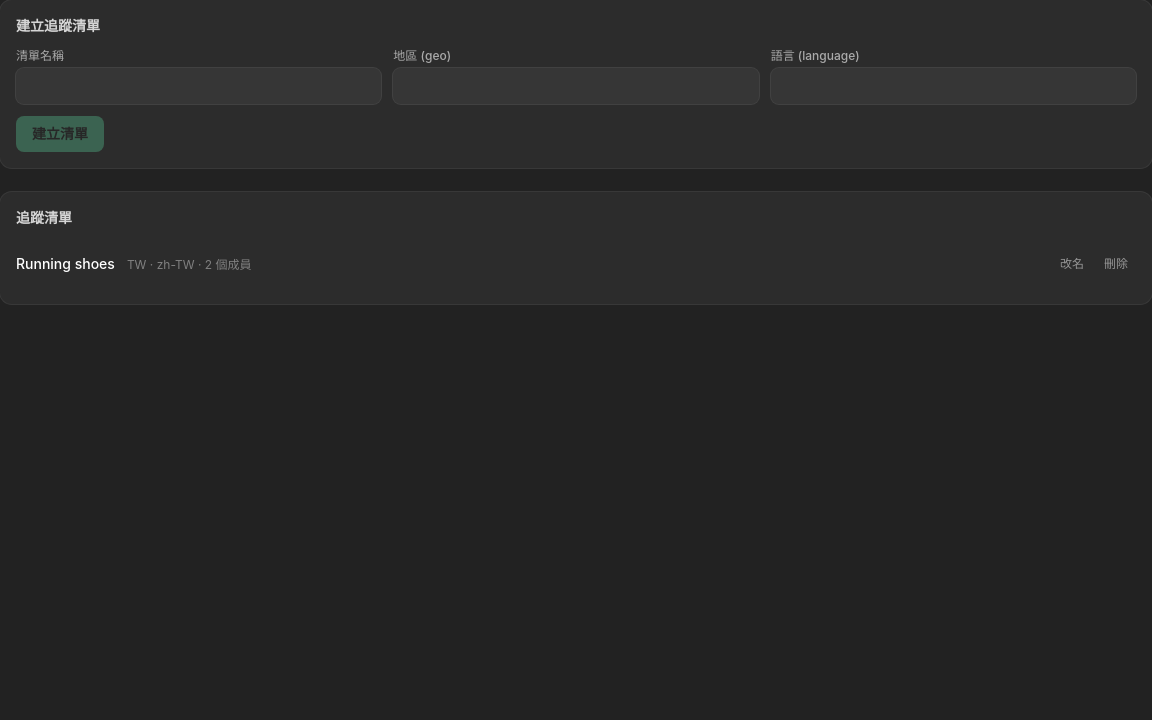
Test: TC-40 · TrackingListsView › deletes a list behind a confirm dialog, then removes the row
The image size is (1152, 720).
Click the button with aria-label "刪除 Running shoes".
click(1116, 264)  # box [1096,252,1136,276]
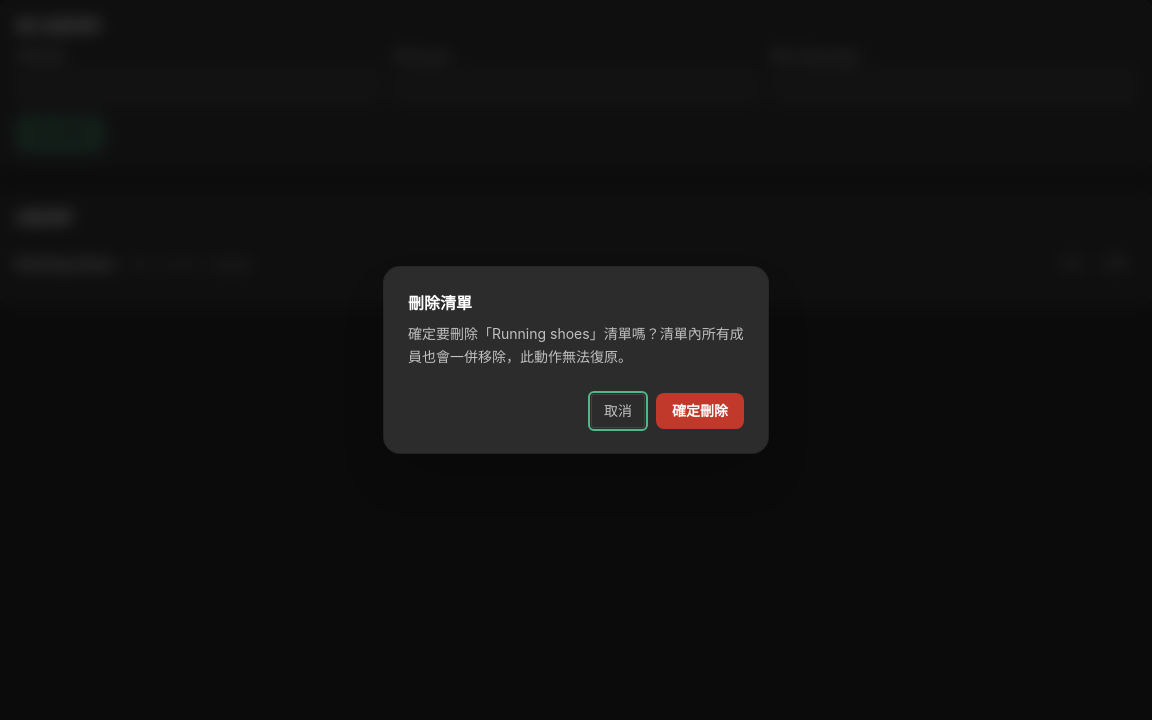
Click the button "確定刪除".
click(700, 411)  # box [656,393,744,429]
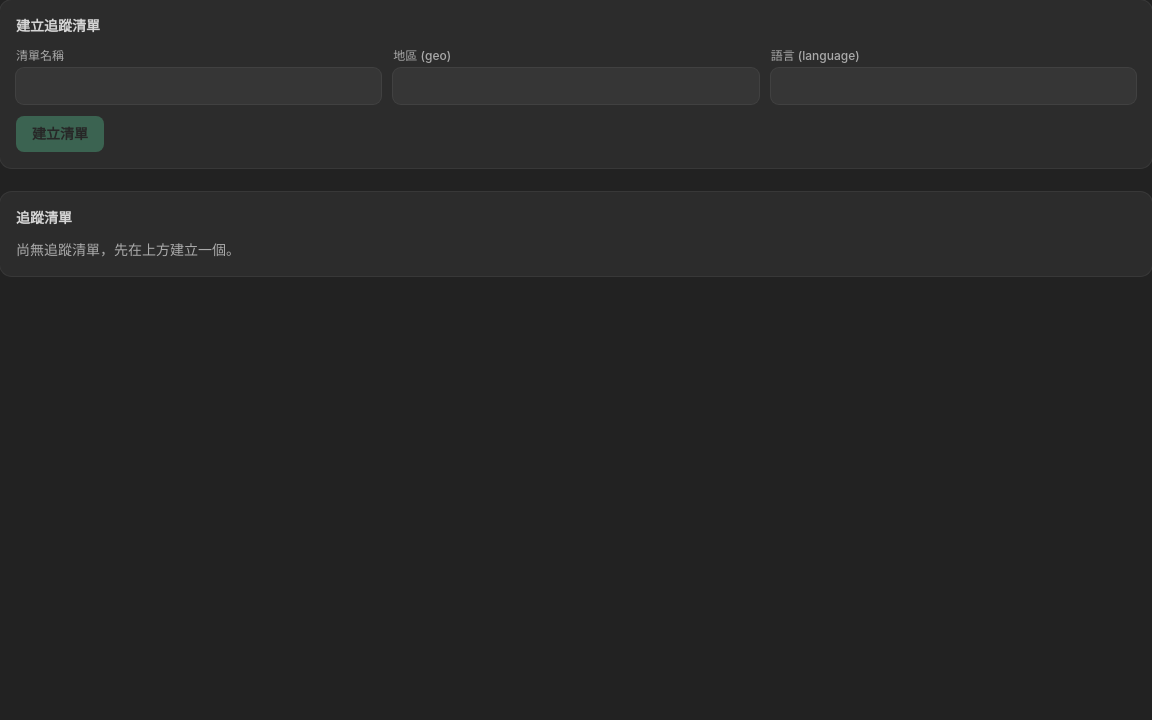
Check: the button "Running shoes" is gone
